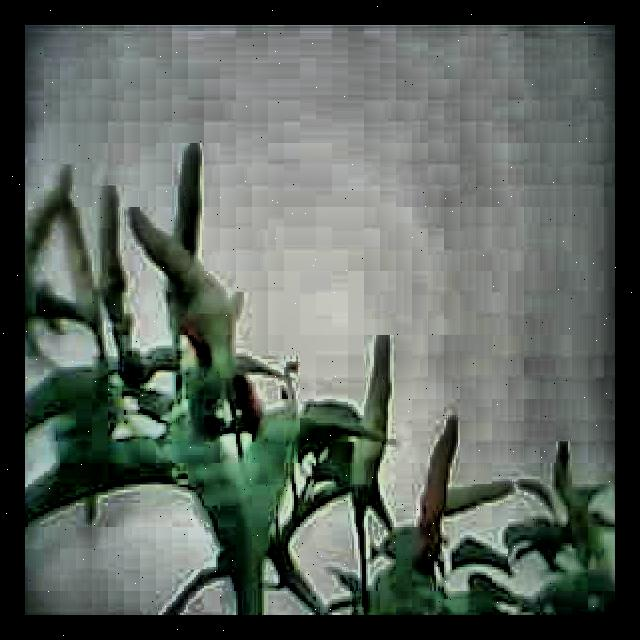Cabai: (420, 410, 466, 553)
